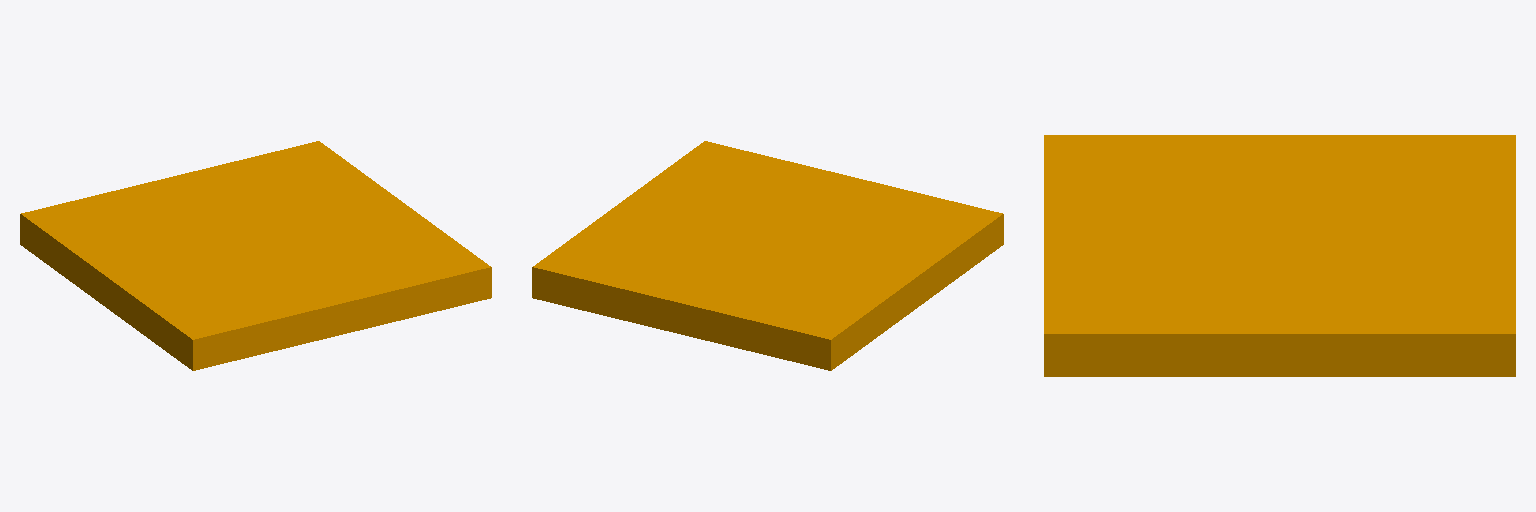
robot.urdf — custom_plane:
<robot name="custom_plane">
  <link name="base_link">
    <visual>
      <geometry>
        <box size="0.15 0.15 0.015"/>
      </geometry>
      <material name="texture">
        <texture filename="MicrosoftTeams-image.png"/>
      </material>
    </visual>
    <inertial>
      <mass value="10"/>
      <origin rpy="0 0 0" xyz="0 0 0"/>
      <inertia ixx="0.1" ixy="0" ixz="0" iyy="0.1" iyz="0" izz="0.1"/>
    </inertial>
    <collision>
      <geometry>
        <box size="0.15 0.15 0.015"/>
      </geometry>
    </collision>
  </link>
</robot>

--- Render facts (derived) ---
3 views of the same robot in one strip: view 1: azimuth 30°, elevation 25°; view 2: azimuth 150°, elevation 25°; view 3: azimuth 270°, elevation 25° (orthographic).
Robot: custom_plane — 1 links, 0 joints (none); root link base_link; default pose: all joints at 0.
Links seen in each view (by area): view 1: base_link; view 2: base_link; view 3: base_link.
Link boxes in pixels (left/top/right/bottom): base_link: left=20, top=141, right=491, bottom=370; base_link: left=532, top=141, right=1003, bottom=370; base_link: left=1044, top=135, right=1515, bottom=376.
Size in the robot's own frame: 0.15 by 0.15 by 0.015 metres.
Geometry: primitives only (box / cylinder / sphere), no mesh files.